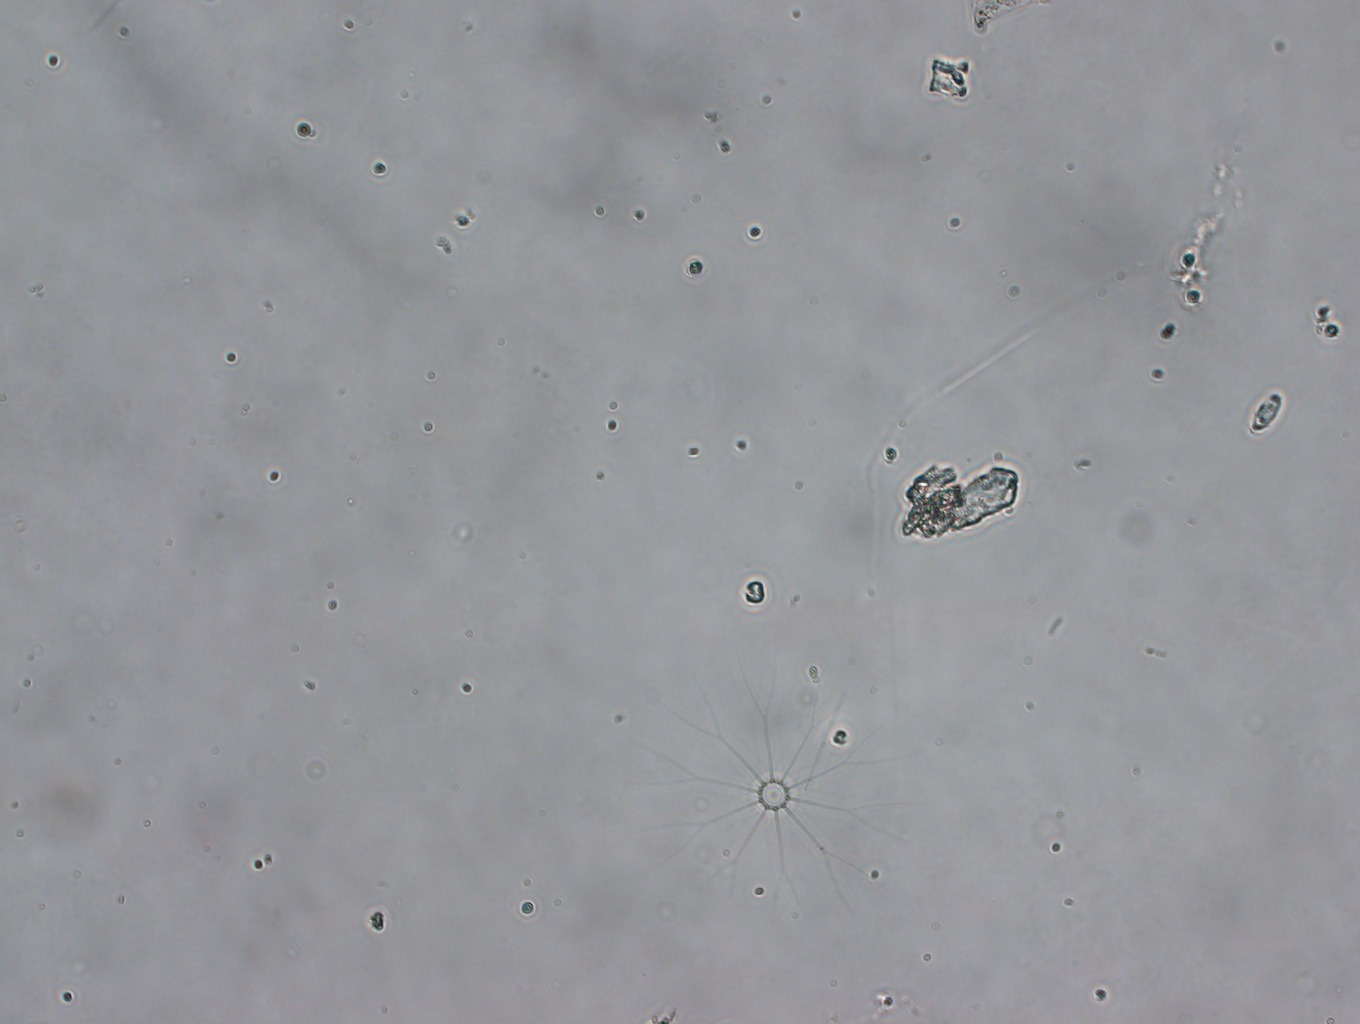bacteriastrum: (635, 649, 918, 926)
